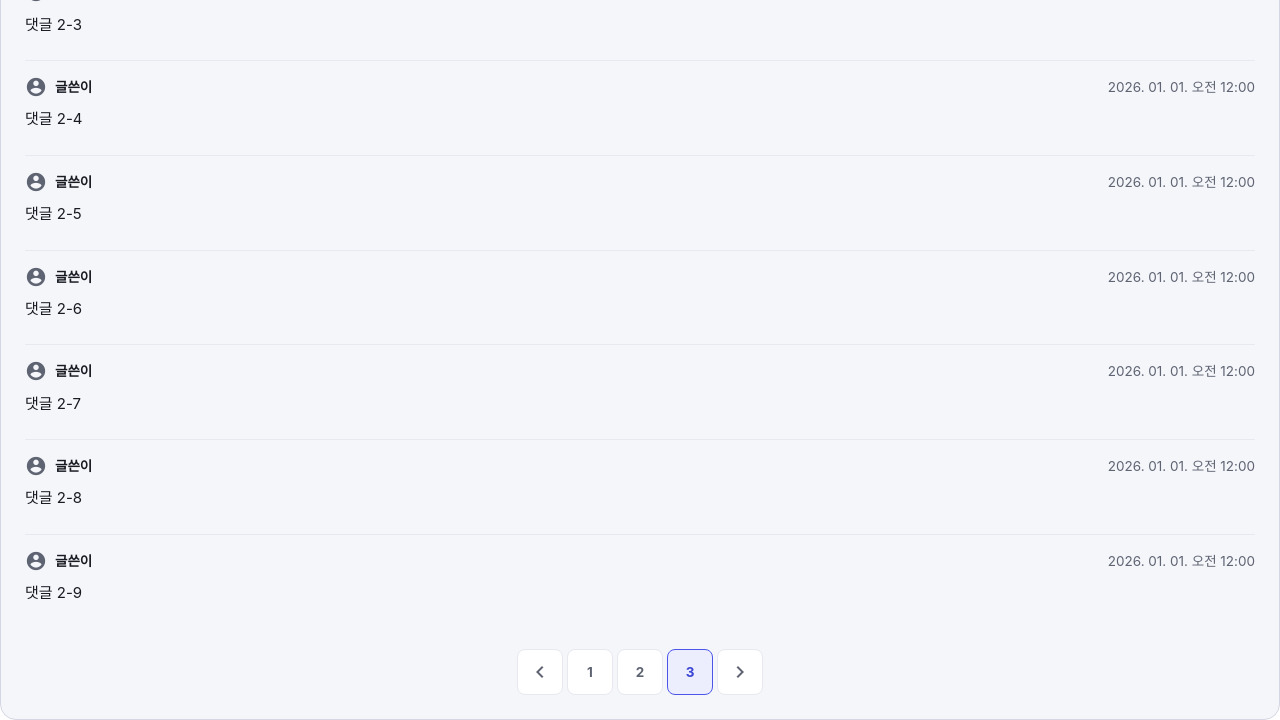
Test: 댓글 페이지는 주소에서 온다 (?cpage= · 설계/05 §9) › 첫 페이지로 돌아가면 cpage는 주소에서 사라진다 (기본값 생략)
(page scrolled)
Click the button "1": (590, 672) [567, 649, 613, 695]
(page scrolled)
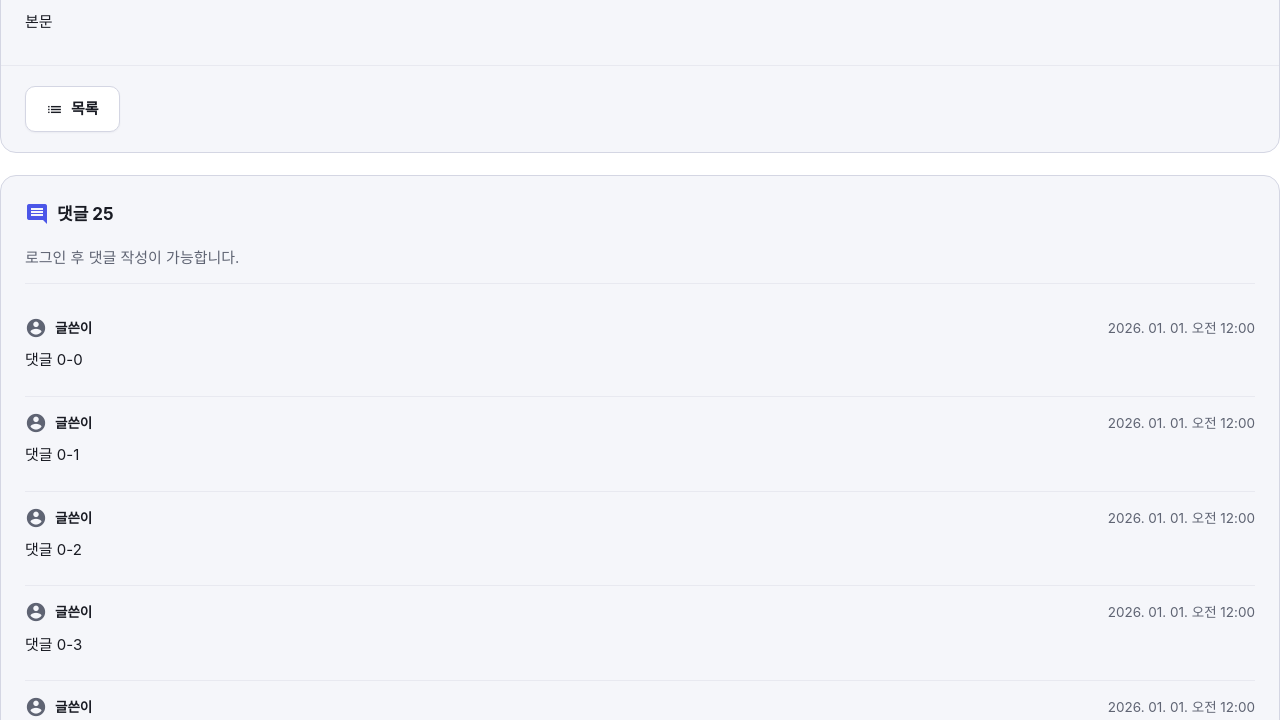
Check: the text "댓글 0-0" is shown, box [25, 350, 83, 369]
